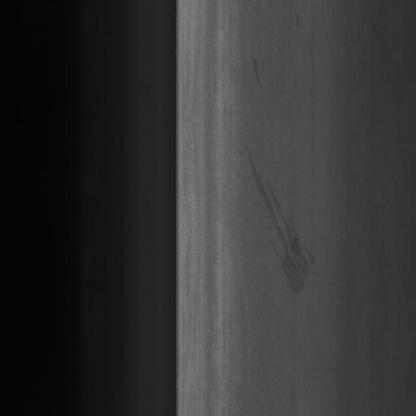water_spot: (242, 136, 323, 309), (248, 51, 263, 88), (292, 11, 305, 35)
